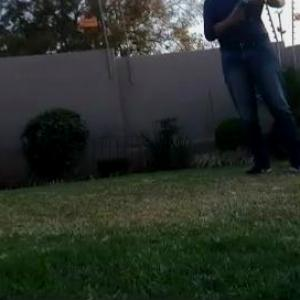follow: (199, 0, 299, 180)
